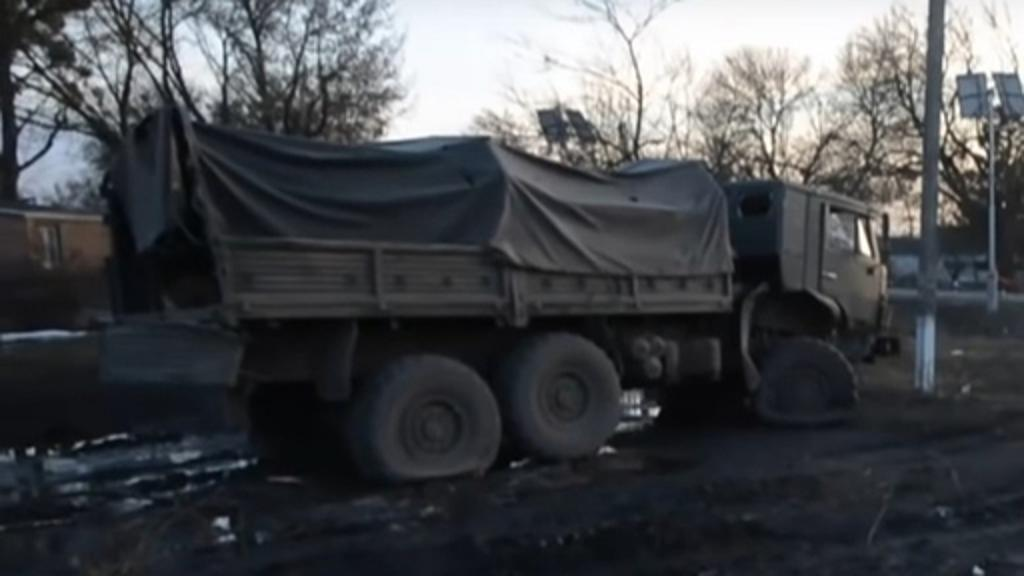TRUCK: (100, 122, 898, 500)
